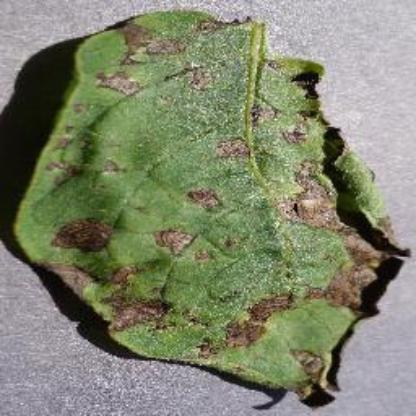Early-Blight: (16, 7, 410, 406)
